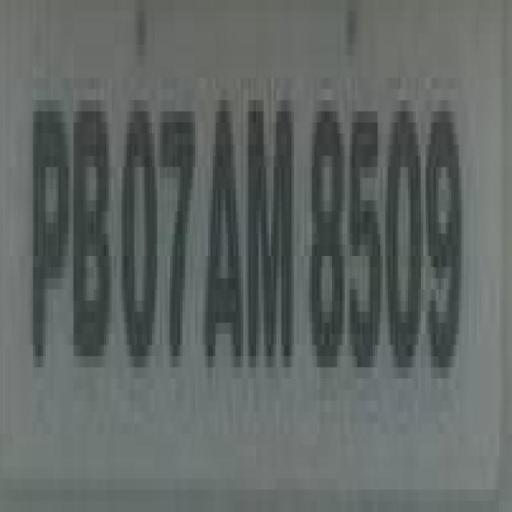number plate: (2, 22, 484, 501)
